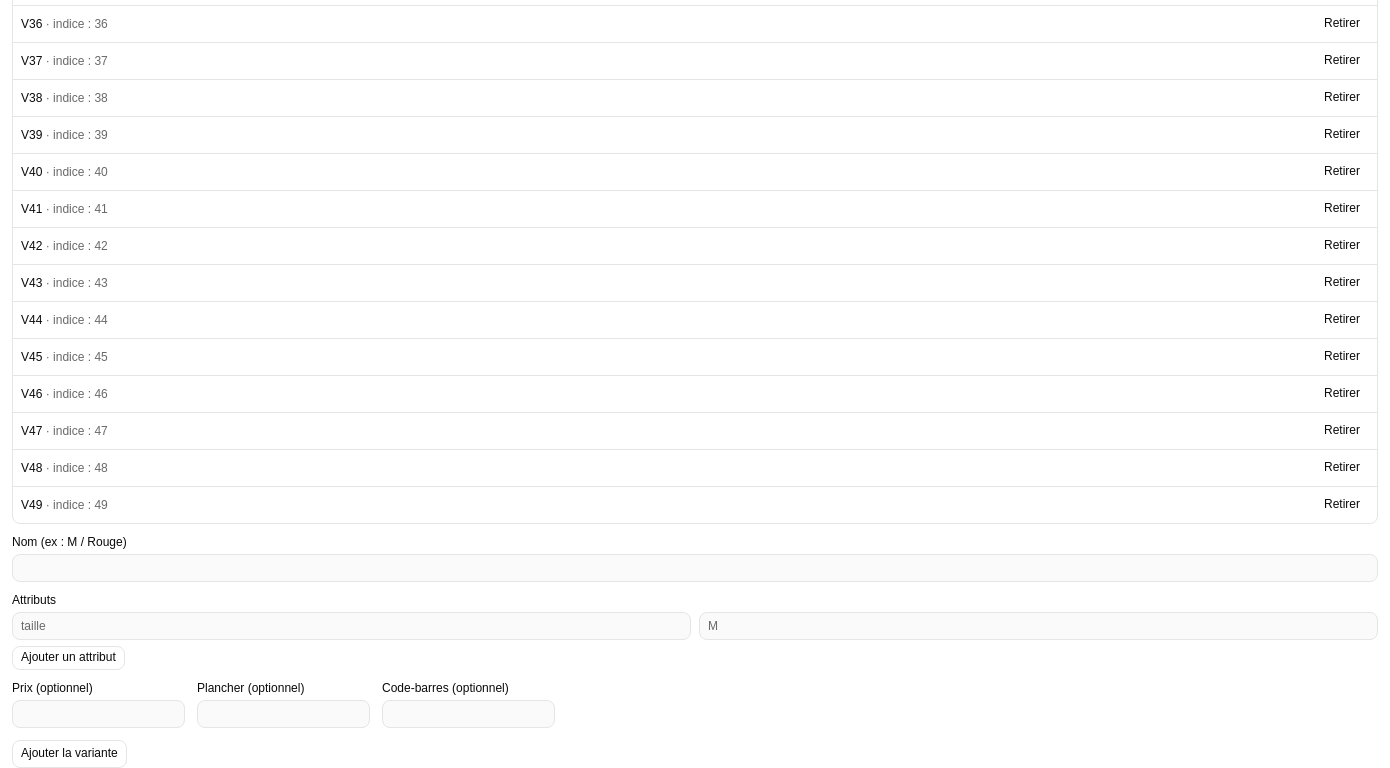
Test: FormulaireVariantes › plafonne le nombre de variantes sur la borne de l'API
(page scrolled)
Type "De trop" into the field labelled "Nom (ex : M / Rouge)".
click(695, 568); type("De trop")  # box [12,554,1378,582]
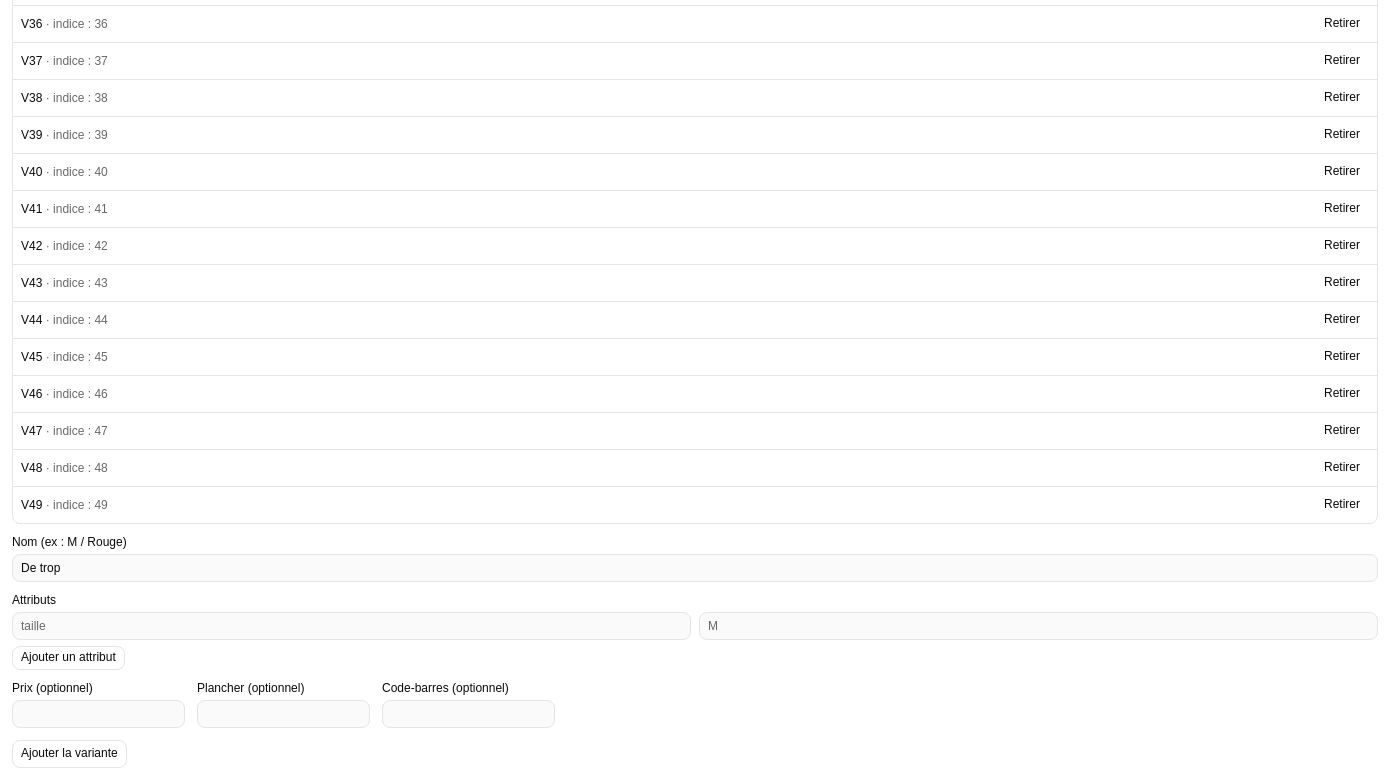
Type "indice" into the field named "Attribut 1 — nom".
click(352, 626); type("indice")  # box [12,612,691,640]
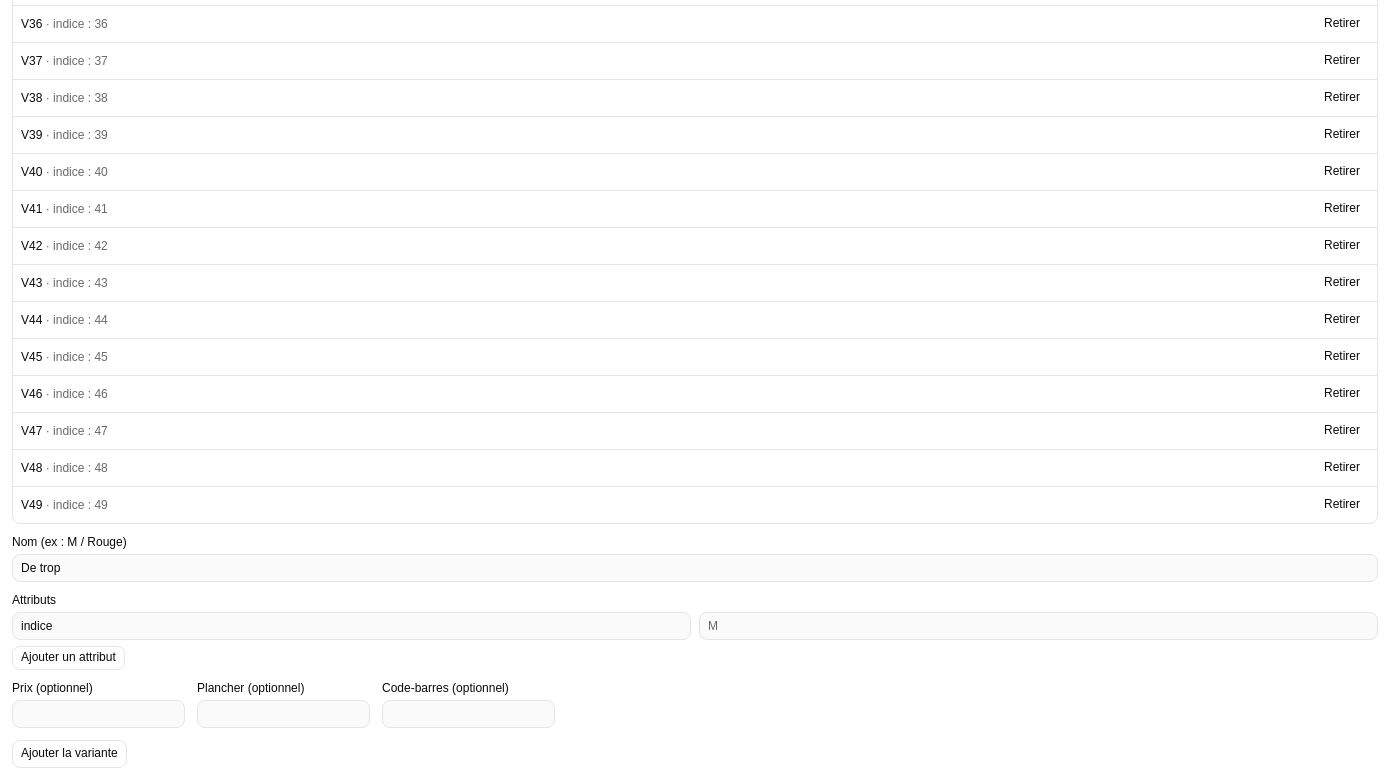
Type "99" into the field named "Attribut 1 — valeur".
click(1038, 626); type("99")  # box [699,612,1378,640]
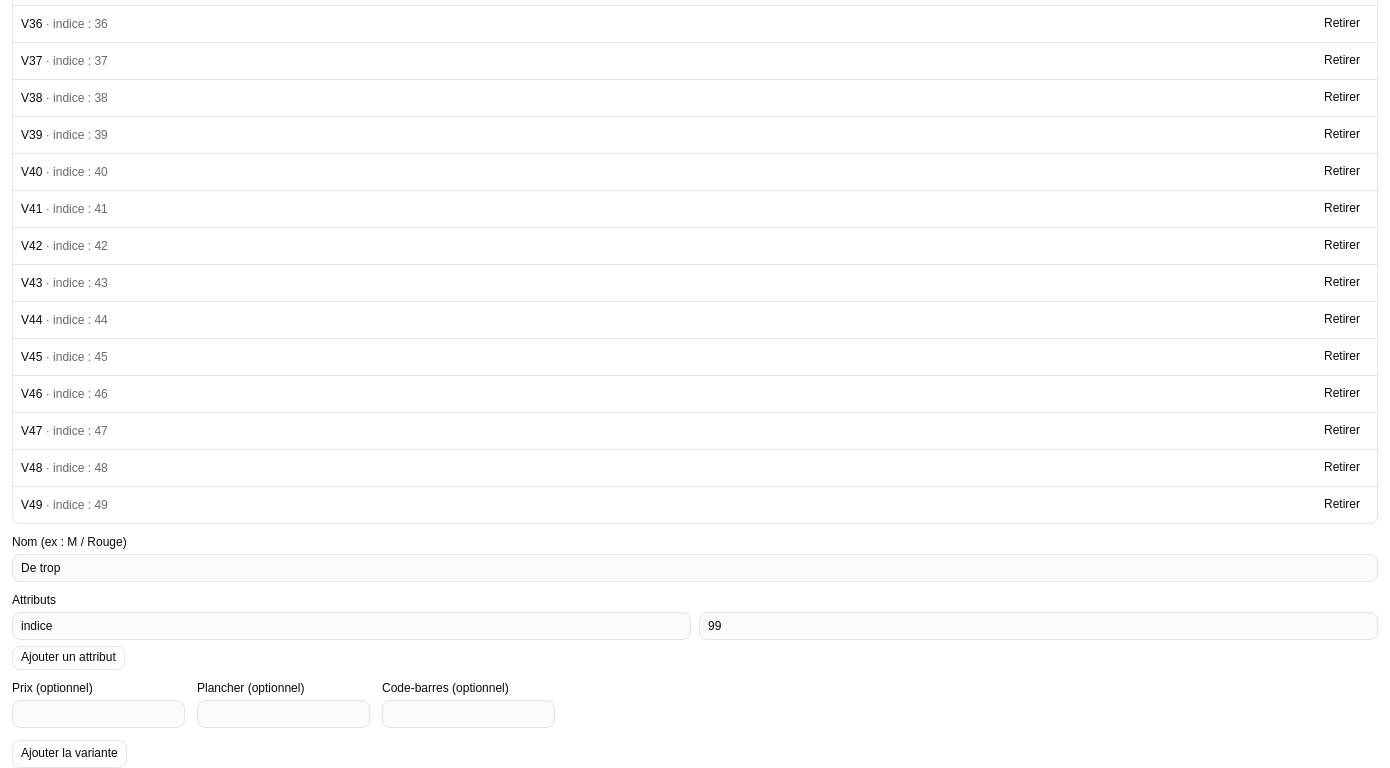
Click the button "Ajouter la variante".
click(69, 754)  # box [12,740,127,767]
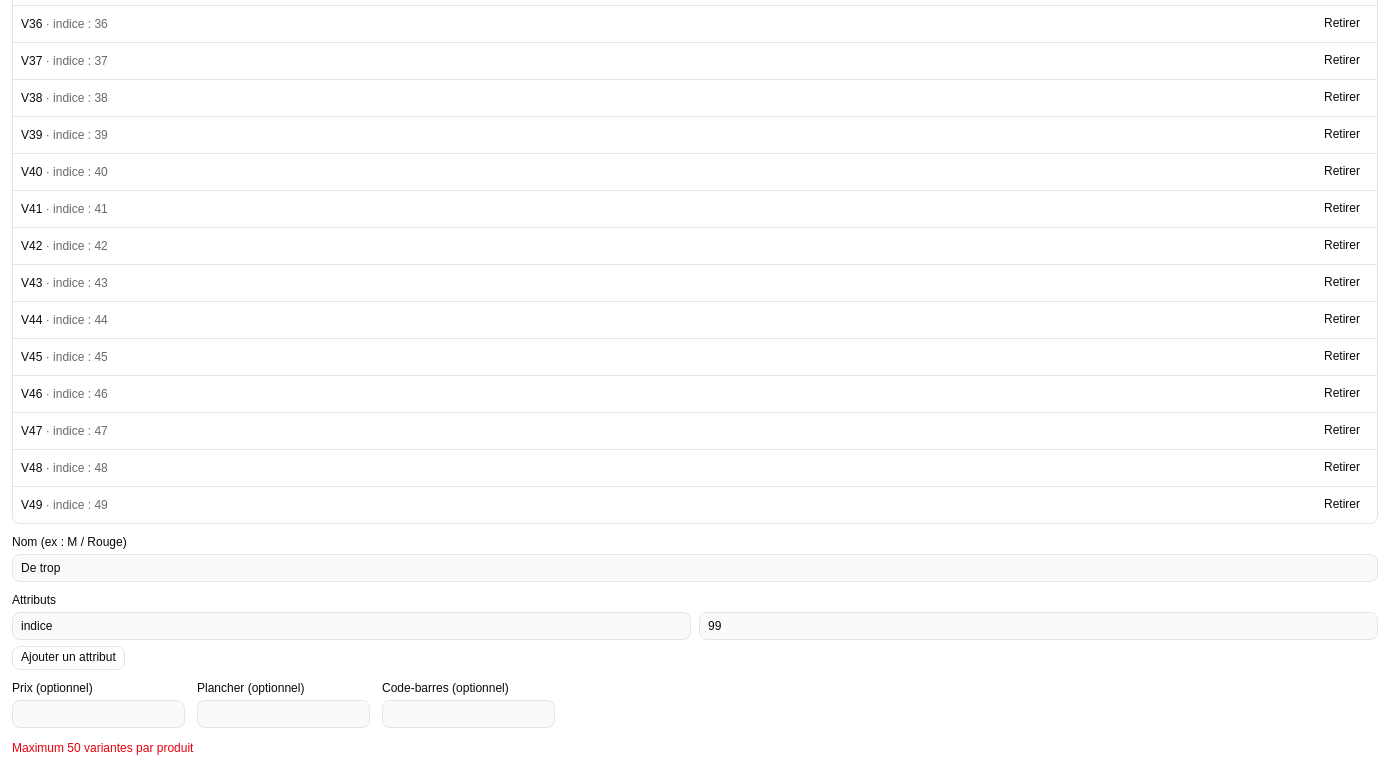
Result: the message shows "50" at [12,741,193,755]
